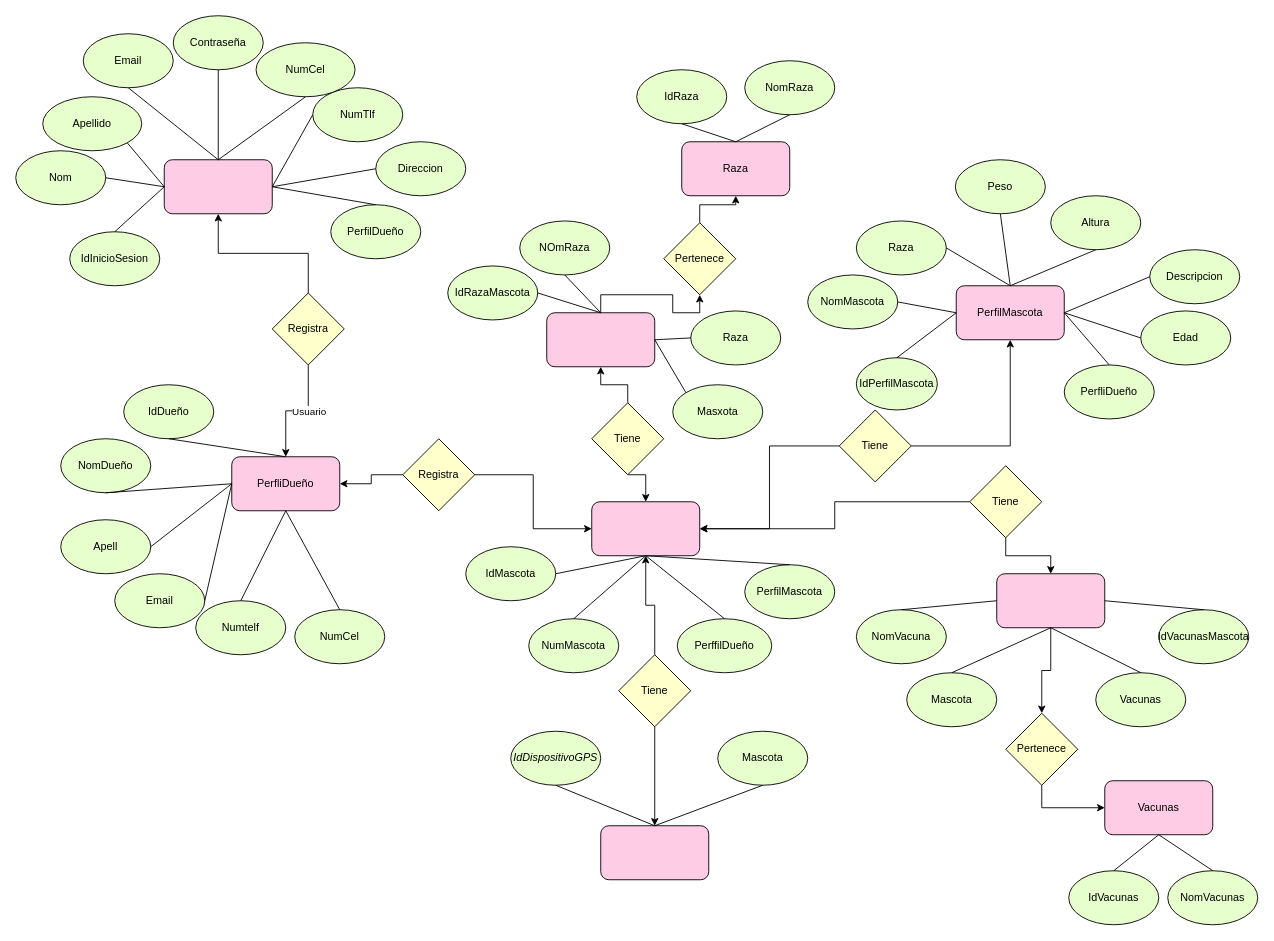
Image size: 1274x941. Some labels were removed from this diagram. The centre of each missing label's shape, as x and y in pixels:
"DispositivoGPS" goes at pixel 654 852.
"InicioSesion" goes at pixel 217 186.
"Mascotas" goes at pixel 645 528.
"RazaMascota" goes at pixel 600 339.
"VacunasMascotas" goes at pixel 1050 600.
